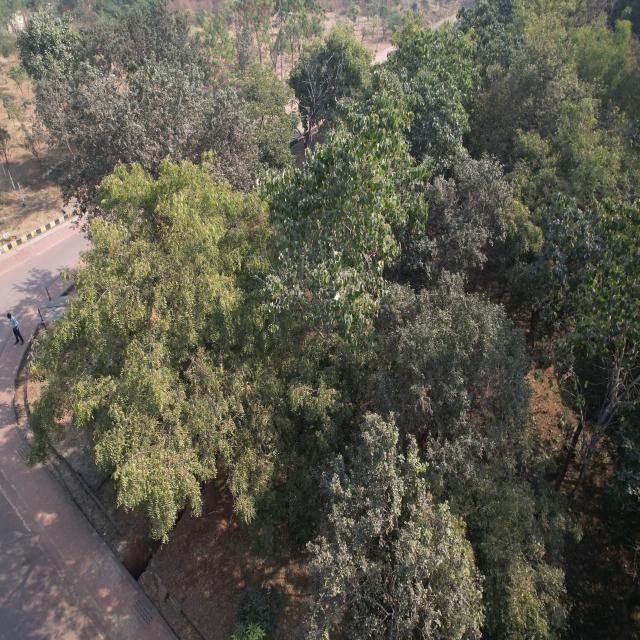Neem-Tree: (29, 165, 280, 541)
